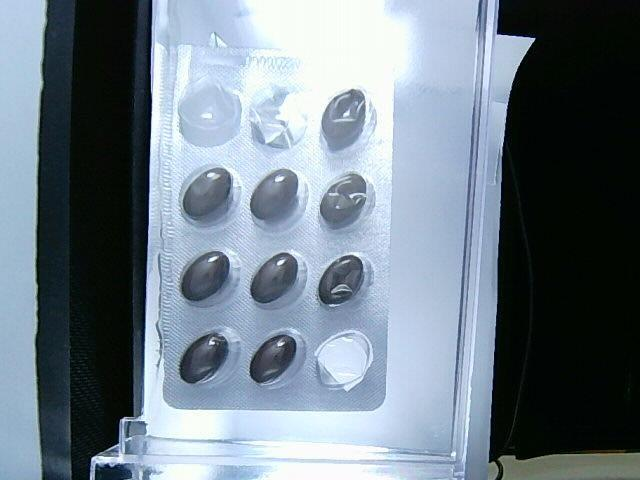Light Front: (154, 42, 394, 414)
No Pill Front: (178, 76, 241, 145), (249, 85, 306, 148), (315, 330, 372, 391)
Pill Front: (321, 89, 366, 144), (250, 169, 298, 220), (181, 251, 229, 300), (180, 334, 228, 383), (183, 168, 231, 216), (320, 174, 366, 224), (251, 253, 297, 303), (319, 255, 364, 303), (250, 336, 296, 382)
